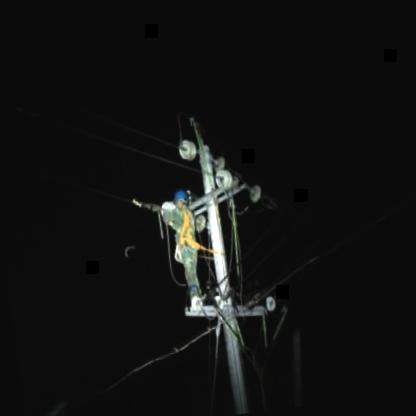helmet: (171, 184, 192, 214)
